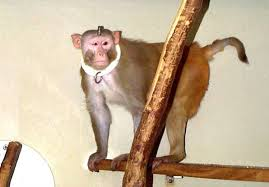monkey: (22, 3, 238, 160)
